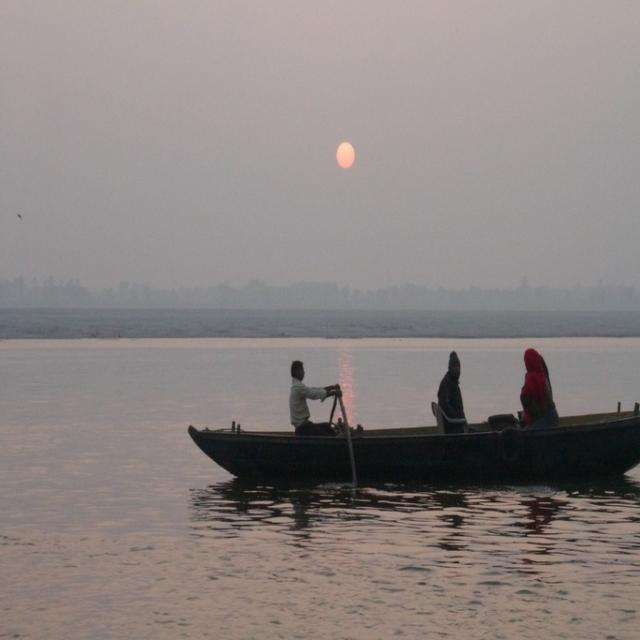boat: (172, 392, 640, 492)
